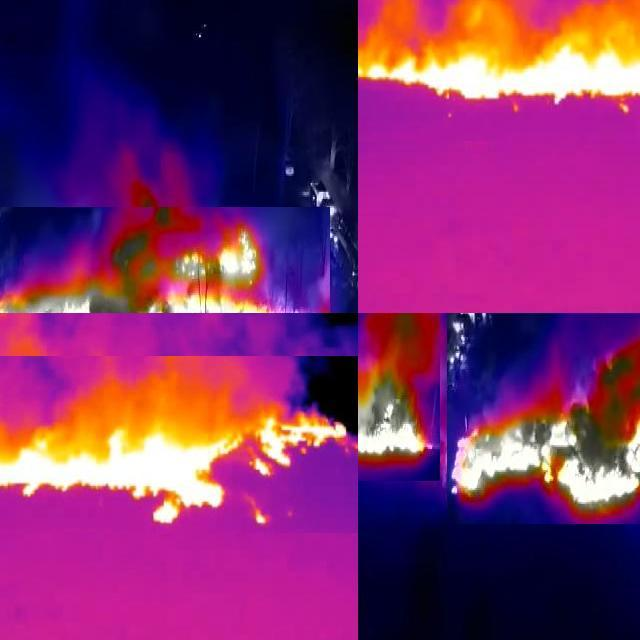fire: (1, 357, 359, 534), (448, 314, 640, 525), (359, 1, 640, 142), (1, 208, 331, 314), (359, 314, 441, 482)
